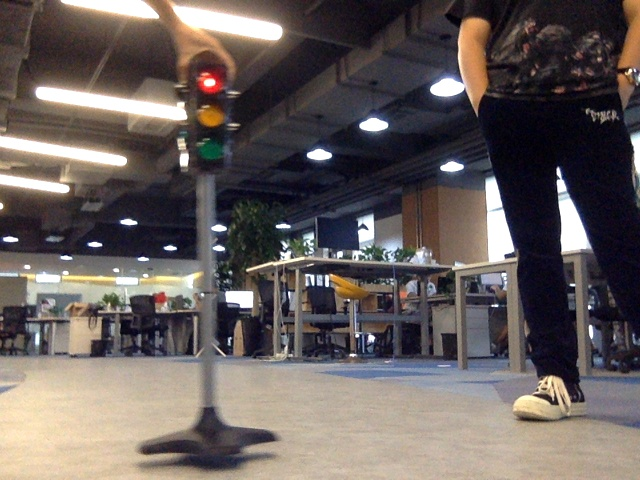red: (191, 71, 224, 161)
